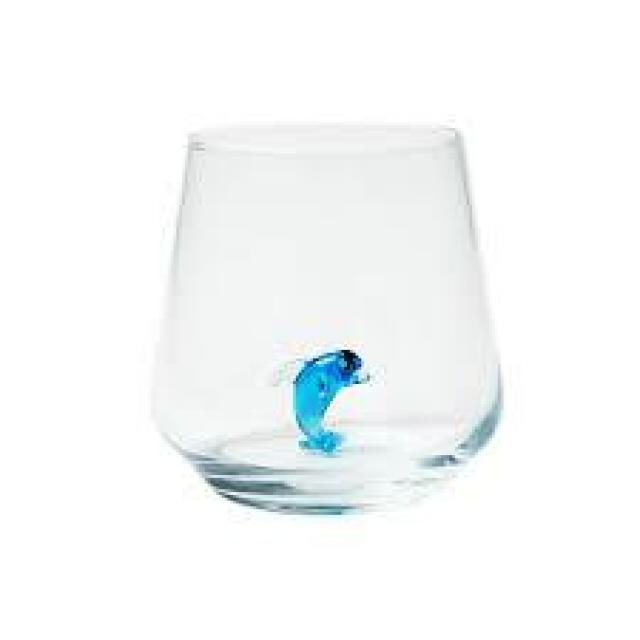non-organic waste: (148, 122, 503, 515)
